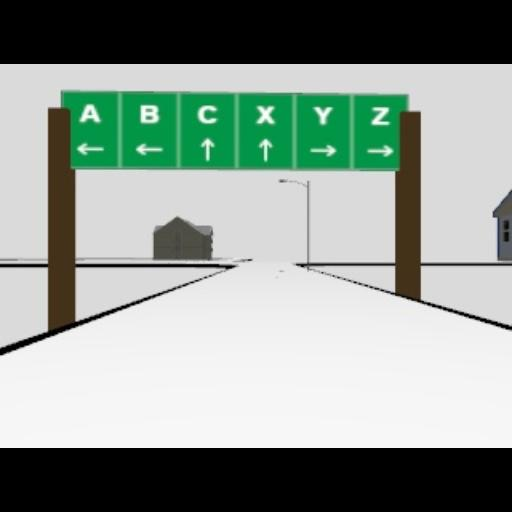A: (79, 102, 101, 124)
B: (140, 104, 158, 124)
C: (196, 104, 218, 124)
Left: (133, 142, 165, 156), (76, 142, 104, 156)
Right: (364, 144, 394, 156), (308, 144, 336, 156)
Straight: (200, 136, 214, 160), (258, 138, 272, 160)
X: (254, 104, 276, 124)
Y: (312, 106, 332, 124)
Z: (370, 106, 390, 124)
